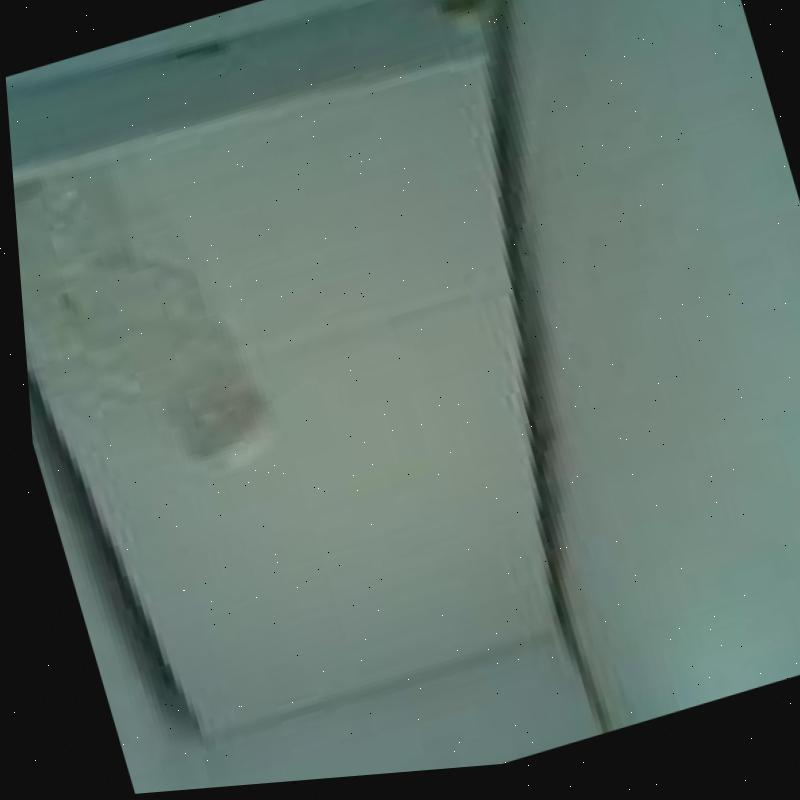botella: (8, 120, 278, 526)
